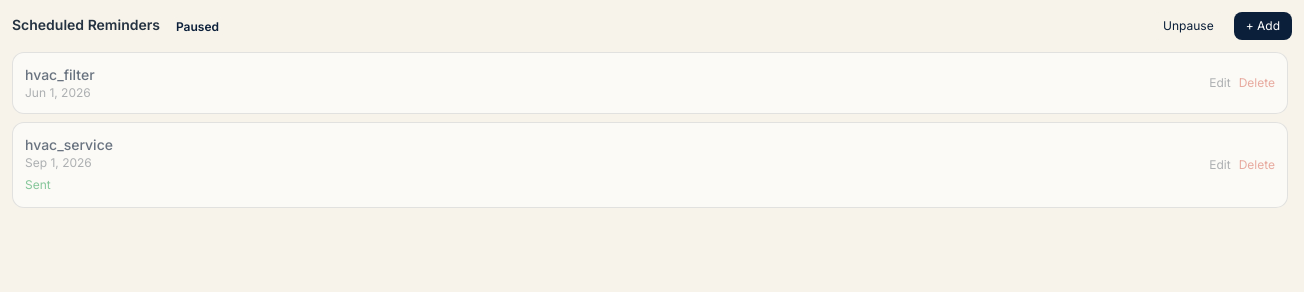
RemindersPanel › Edit still opens the inline form while paused
This screenshot has width=1304, height=292.
Click the button "Edit" in the row of "hvac_filter" at (1220, 83), box top-left (1209, 75), bottom-right (1231, 91)
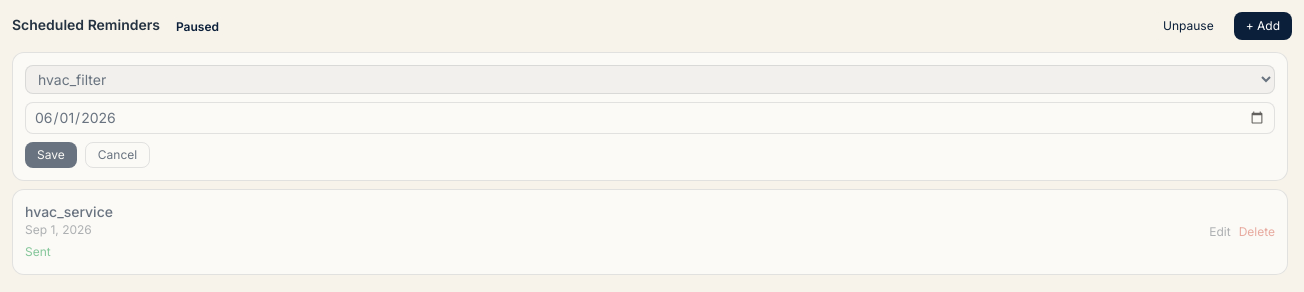
Result: the button "Save" is shown at top-left (25, 142), bottom-right (77, 168)
Result: the date field showing "2026-06-01" is shown at top-left (25, 102), bottom-right (1275, 134)
